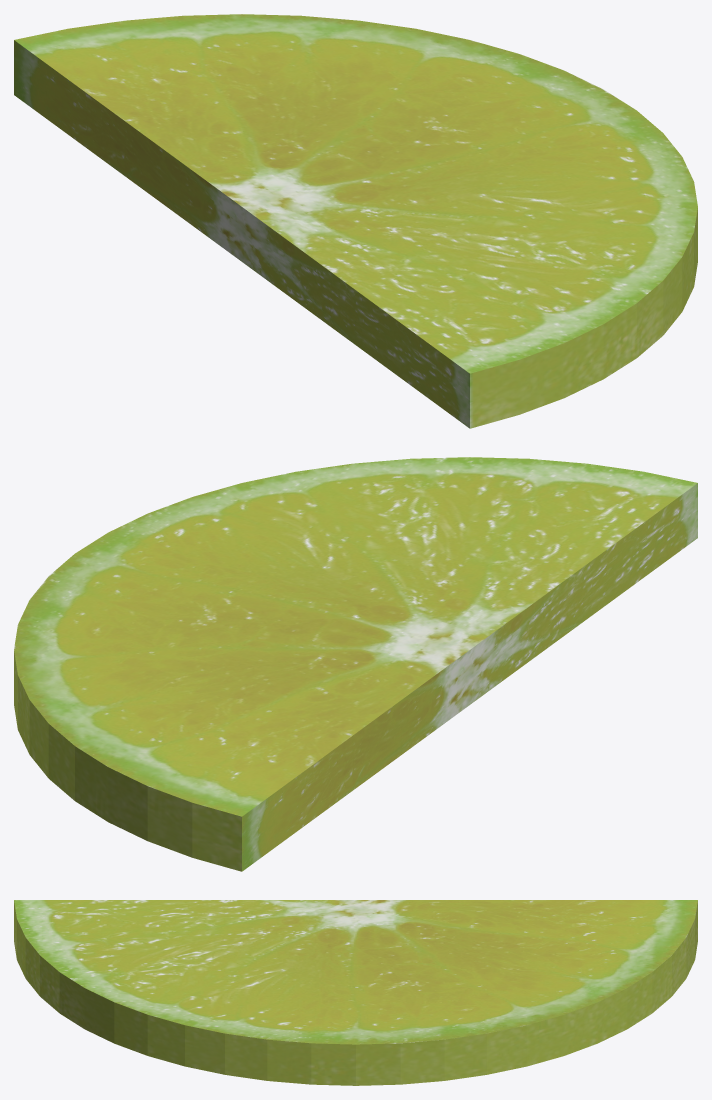
The picture shows the model from 3 angles, top to bottom: view 1: azimuth 30°, elevation 25°; view 2: azimuth 150°, elevation 25°; view 3: azimuth 270°, elevation 25°; orthographic projection. The views are drawn at different scales.
Parts seen in each view (by area): view 1: Cylinder.001; view 2: Cylinder.001; view 3: Cylinder.001.
Part boxes in pixels (box(x1,y1,x2,y2)): Cylinder.001: box(14, 14, 697, 428); Cylinder.001: box(14, 457, 697, 871); Cylinder.001: box(14, 900, 697, 1085).
Bounding box in the file's own units: 1 × 0.1333 × 2.
